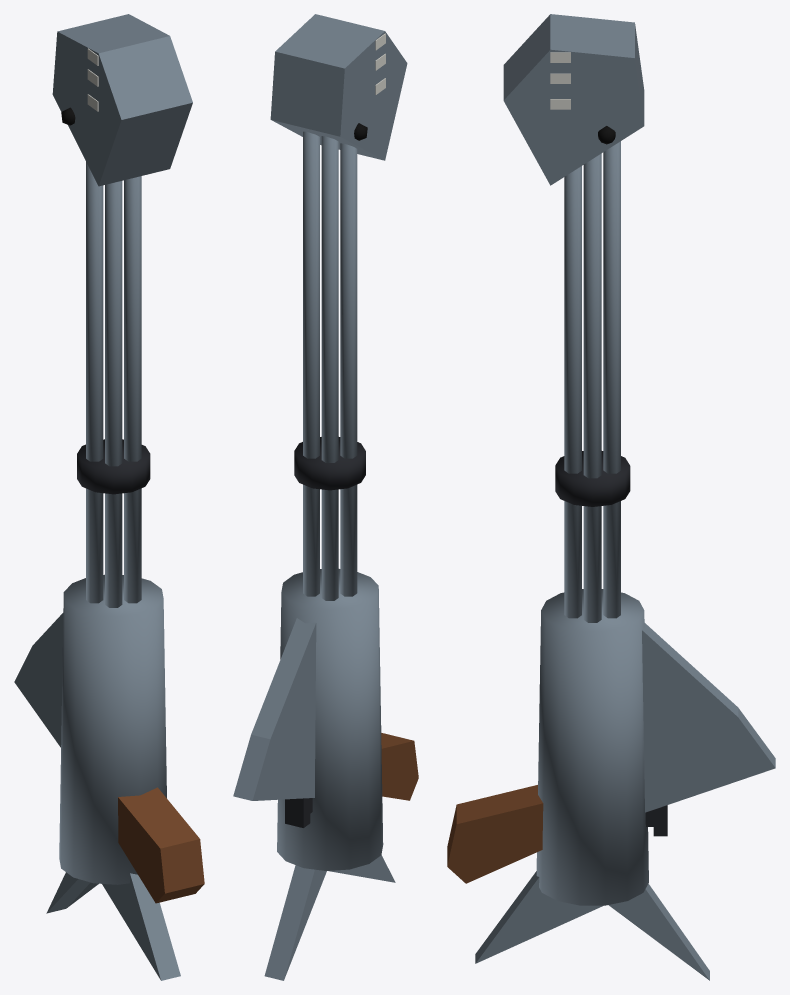
Rendered from minishark.glb.
The picture shows the model from 3 angles, left to right: view 1: azimuth 30°, elevation 25°; view 2: azimuth 150°, elevation 25°; view 3: azimuth 270°, elevation 25°; orthographic projection. The views are drawn at different scales.
Parts seen in each view (by area): view 1: minishark_v0; view 2: minishark_v0; view 3: minishark_v0.
Part boxes in pixels (bbox=[...]): minishark_v0: bbox=[14, 14, 204, 980]; minishark_v0: bbox=[233, 14, 418, 980]; minishark_v0: bbox=[447, 14, 775, 980].
Bounding box in the file's own units: 0.117 × 1.11 × 0.35.
